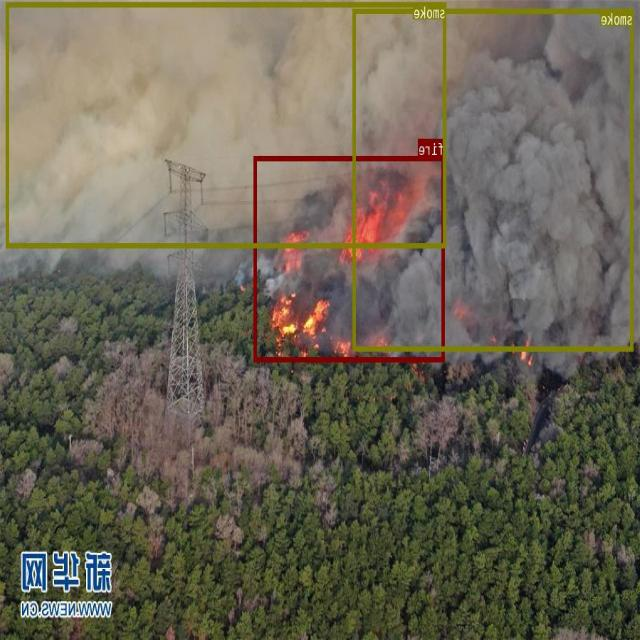fire: (254, 155, 446, 361)
smoke: (7, 2, 447, 247), (353, 8, 634, 350)
